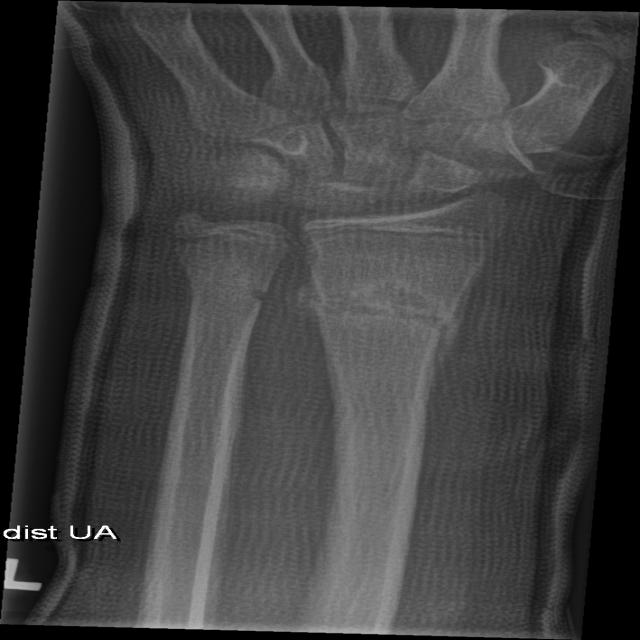radius fracture: (290, 251, 511, 421)
ulna fracture: (182, 239, 312, 400)
